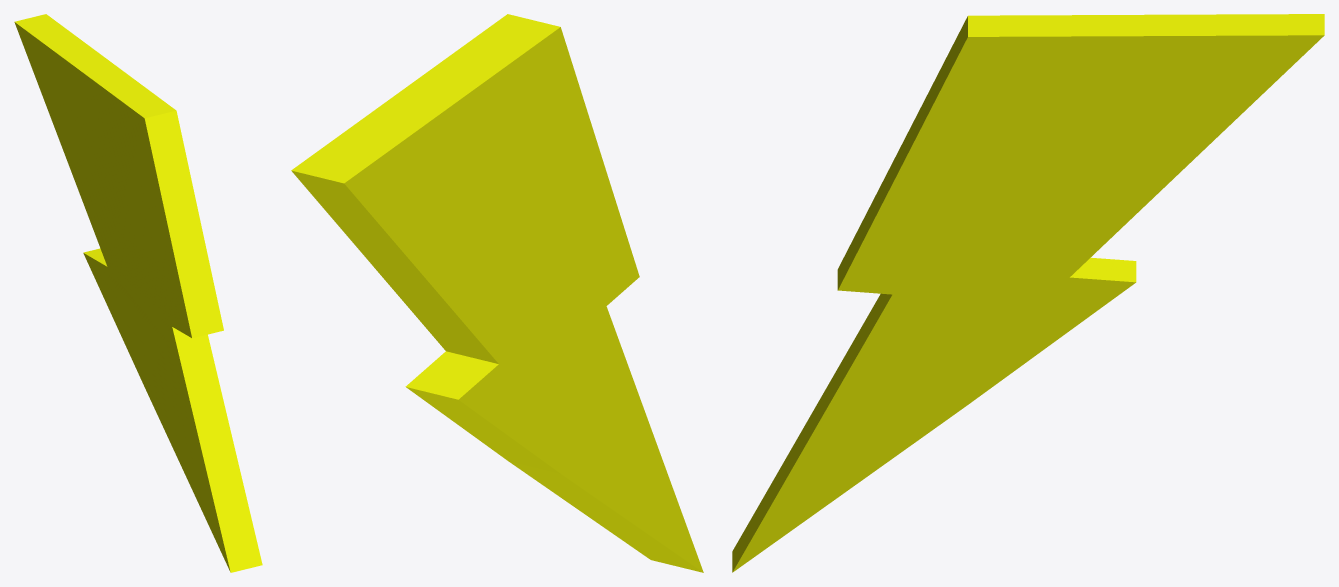
Rendered from Bolt.fbx.
3 views of the same model, side by side, from view 1: azimuth 30°, elevation 25°; view 2: azimuth 150°, elevation 25°; view 3: azimuth 270°, elevation 25° (orthographic). The views are drawn at different scales.
Parts seen in each view (by area): view 1: Bolt; view 2: Bolt; view 3: Bolt.
Part boxes in pixels (x1=…): Bolt: x1=14, y1=14, x2=262, y2=572; Bolt: x1=291, y1=14, x2=703, y2=572; Bolt: x1=732, y1=14, x2=1324, y2=572.
Size of the model in its own units: 11.1 by 130 by 130.
